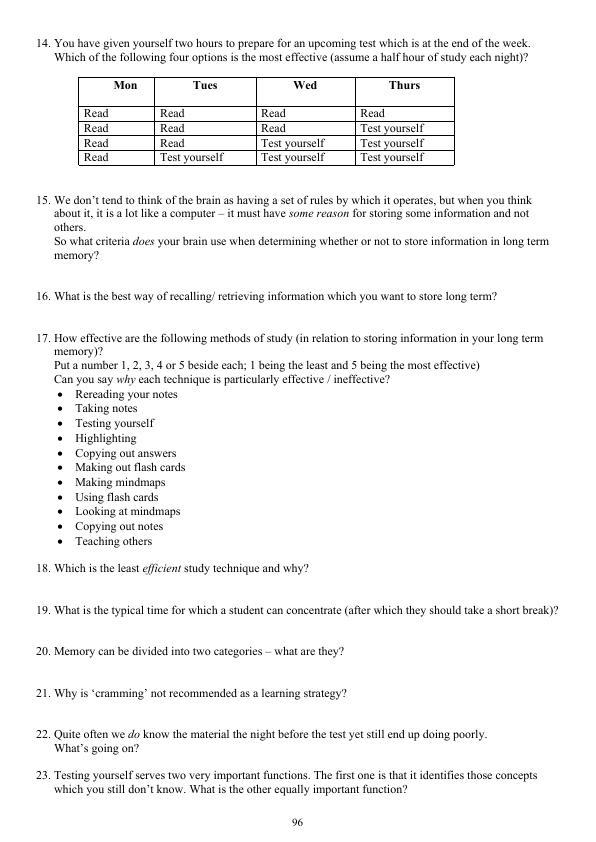table: (74, 74, 463, 170)
text: (29, 327, 549, 548), (34, 193, 554, 266), (32, 34, 536, 68), (35, 767, 546, 800), (33, 724, 498, 757), (36, 600, 564, 625), (32, 286, 502, 309), (32, 682, 351, 707), (31, 640, 348, 662), (32, 560, 313, 583)
